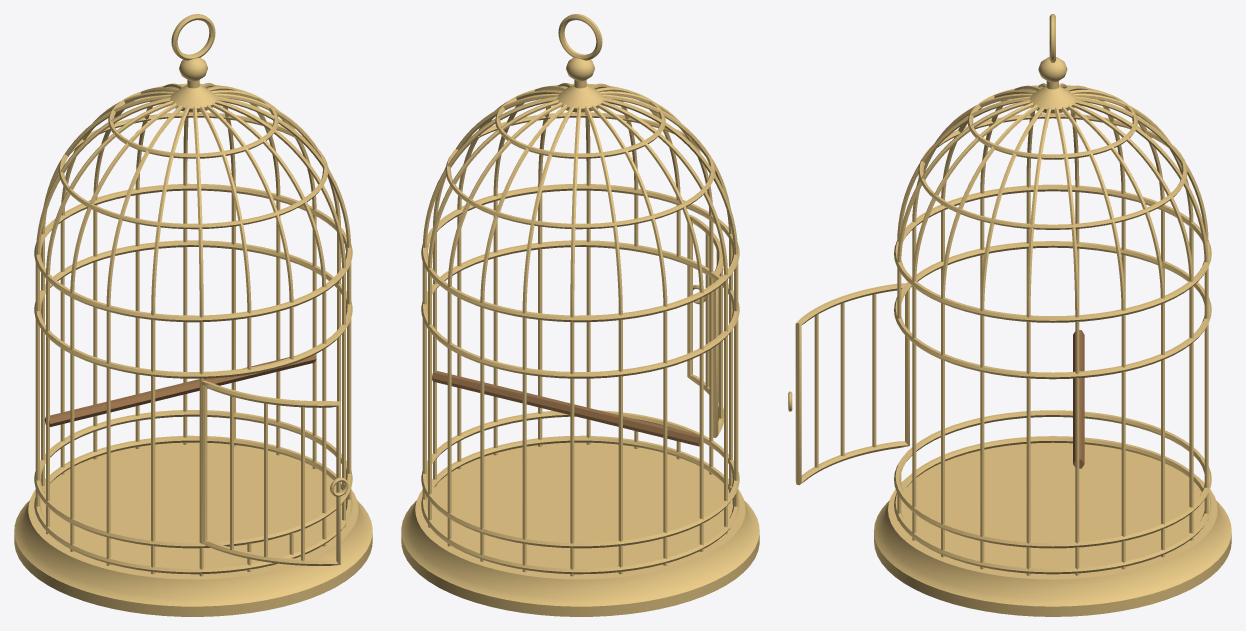
Rendered from SM_Birdcage.fbx.
3 views of the same model, side by side, from view 1: azimuth 30°, elevation 25°; view 2: azimuth 150°, elevation 25°; view 3: azimuth 270°, elevation 25° (orthographic).
Parts seen in each view (by area): view 1: SM_Birdcage; view 2: SM_Birdcage; view 3: SM_Birdcage.
Part boxes in pixels (x1,y1,x2,y2): SM_Birdcage: (14,14,372,616); SM_Birdcage: (401,14,759,616); SM_Birdcage: (788,14,1231,616).
Bounding box in the file's own units: 69 × 113 × 85.54.
